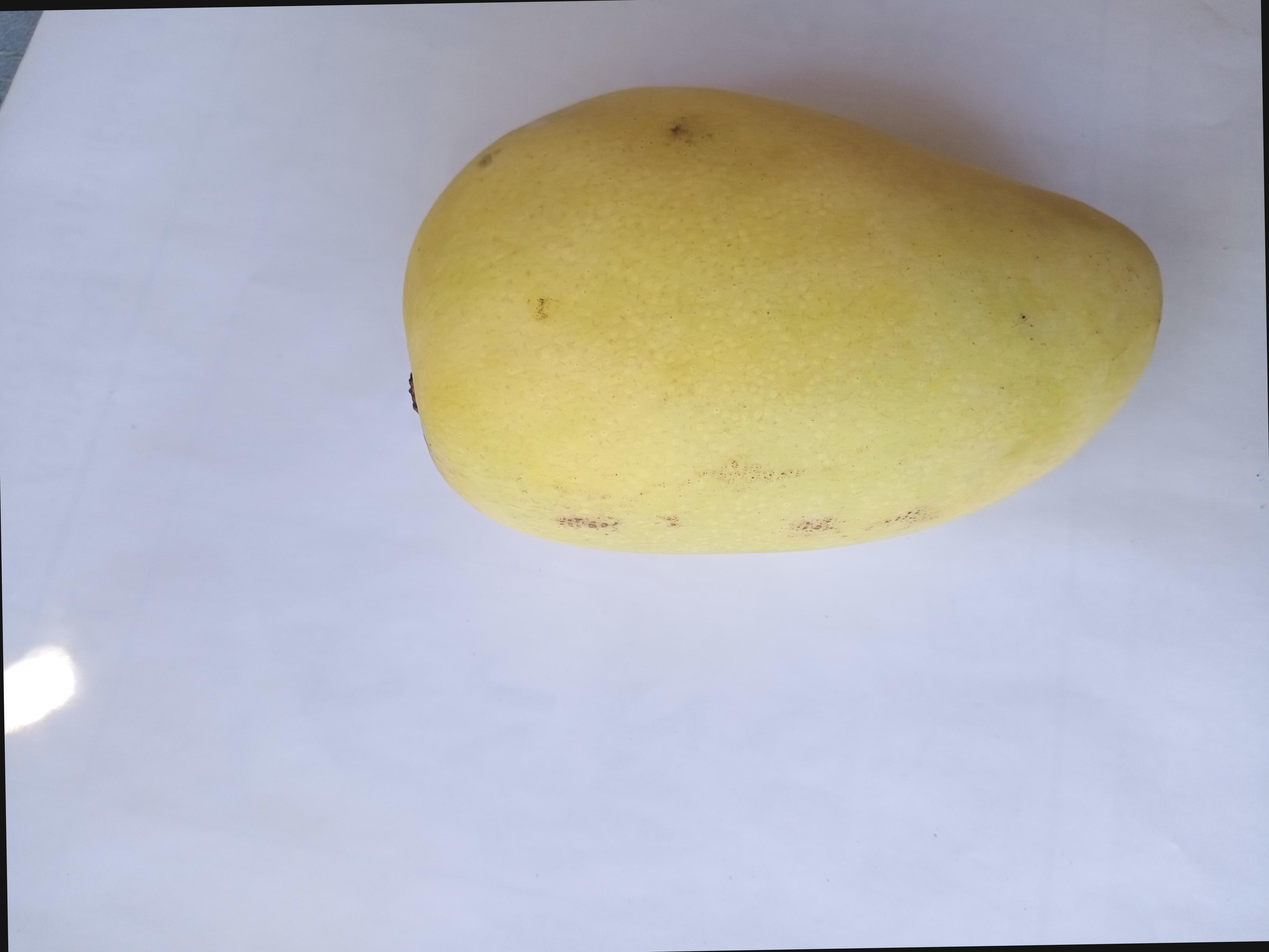Mango Ripe: (332, 68, 1176, 608)
